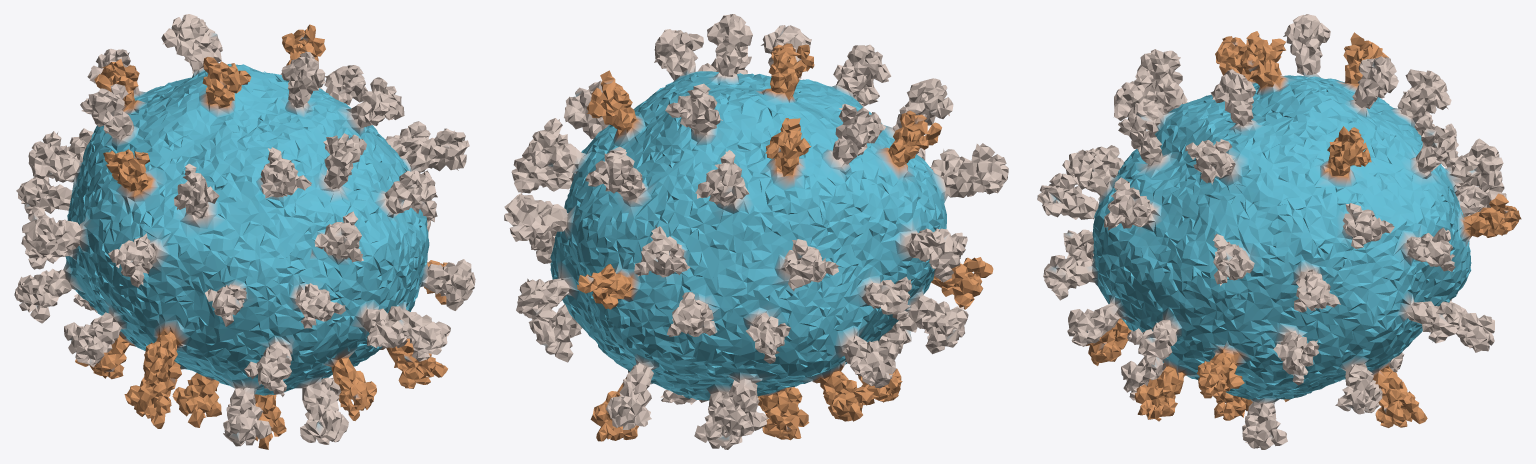
The model's file is coronavirus-sars-cov-2.glb.
3 renders of one model, left to right at view 1: azimuth 30°, elevation 25°; view 2: azimuth 150°, elevation 25°; view 3: azimuth 270°, elevation 25°, orthographic. The views are drawn at different scales.
Visible parts, largest first — view 1: SARSCOV2_Thick.ply; view 2: SARSCOV2_Thick.ply; view 3: SARSCOV2_Thick.ply.
Boxes of the visible parts, x1,y1,x2,y2 form: SARSCOV2_Thick.ply: (14,14,475,449); SARSCOV2_Thick.ply: (504,14,1008,449); SARSCOV2_Thick.ply: (1037,14,1521,449).
Bounding box in the file's own units: 105 × 90.29 × 107.
